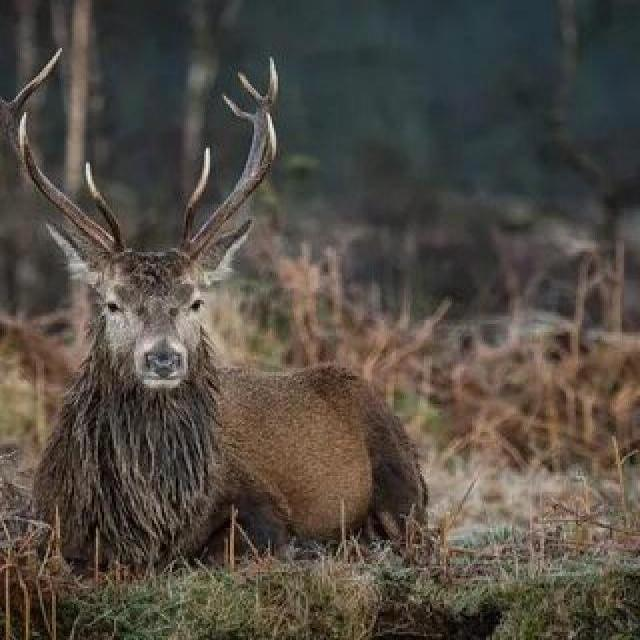deer: (0, 115, 275, 573)
